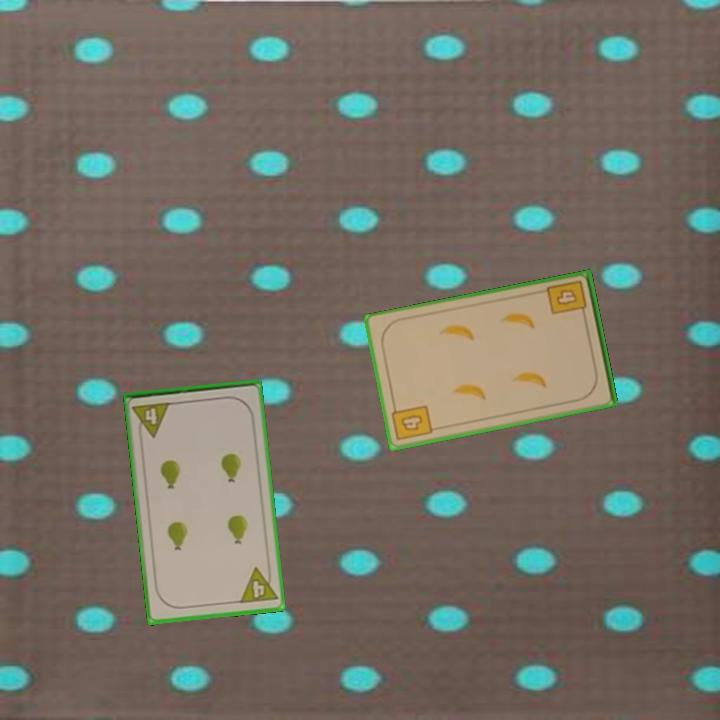4b: (544, 277, 590, 321), (388, 401, 435, 443)
4p: (236, 563, 280, 606), (129, 399, 173, 441)
